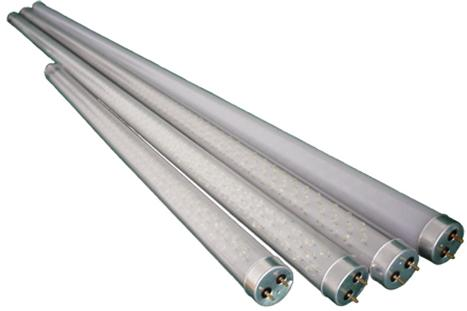Light bulb: (32, 1, 467, 267), (18, 6, 421, 291), (7, 11, 371, 309), (43, 61, 297, 310)
